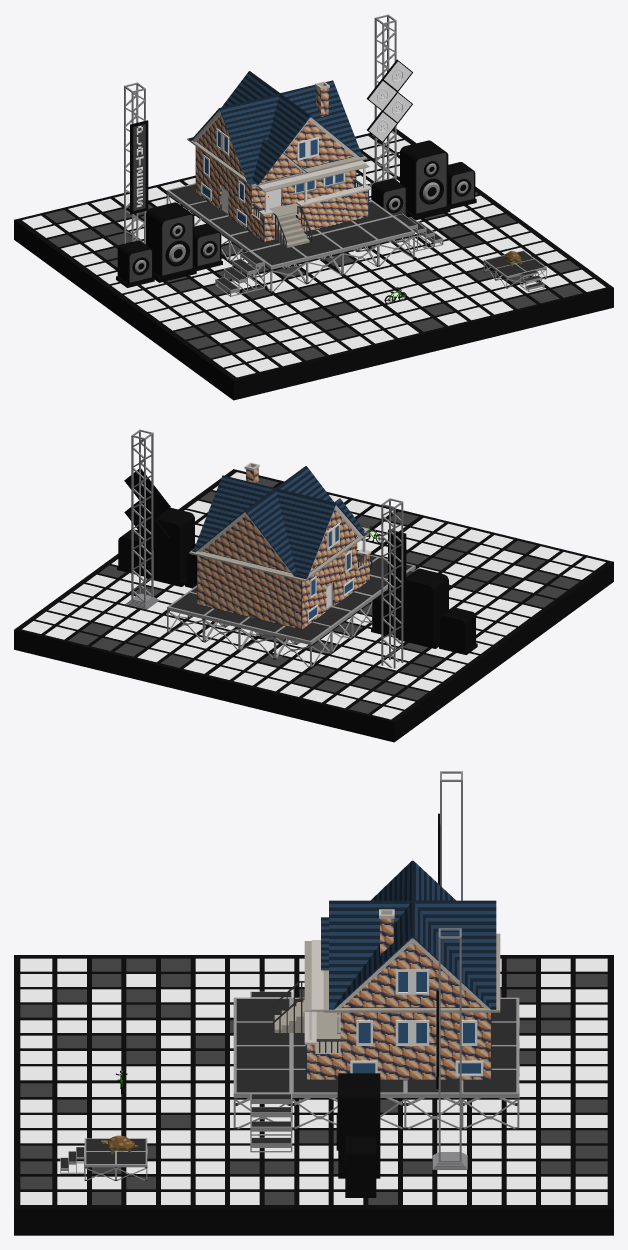
3 renders of one model, top to bottom at view 1: azimuth 30°, elevation 25°; view 2: azimuth 150°, elevation 25°; view 3: azimuth 270°, elevation 25°, orthographic. The views are drawn at different scales.
Visible parts, largest first — view 1: Cube.008, Cube.430; view 2: Cube.008, Cube.430; view 3: Cube.008, Cube.430.
Boxes of the visible parts, x1=… form: Cube.008: x1=14, y1=14, x2=613, y2=400; Cube.430: x1=187, y1=71, x2=371, y2=248; Cube.008: x1=14, y1=429, x2=613, y2=742; Cube.430: x1=189, y1=462, x2=372, y2=629; Cube.008: x1=14, y1=771, x2=613, y2=1235; Cube.430: x1=272, y1=860, x2=500, y2=1080.
Bounding box in the file's own units: 4000 × 1950 × 4000.
Materials: 38 (2 with a texture image).
